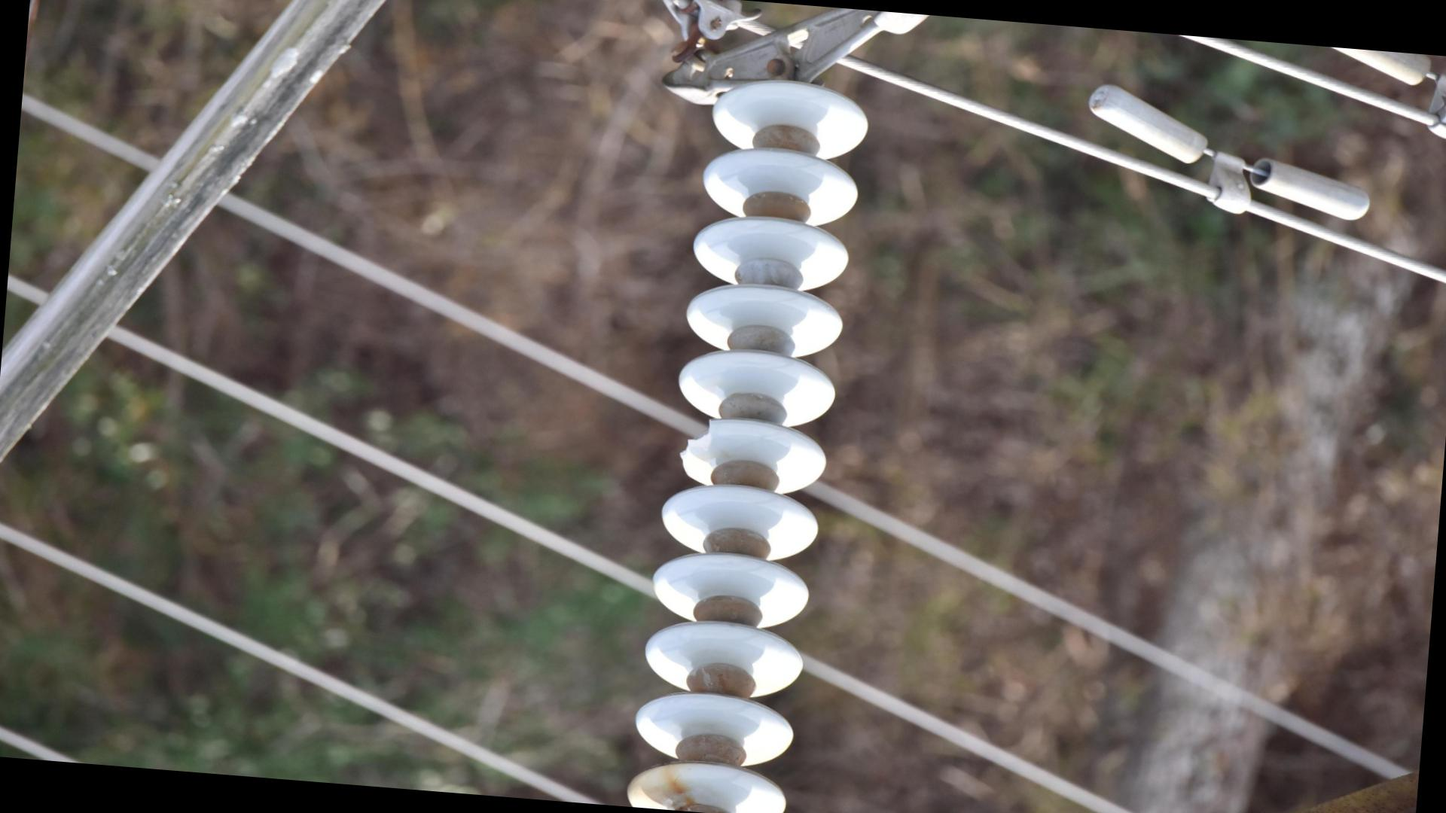damper: (1075, 75, 1383, 233), (1291, 5, 1446, 151)
